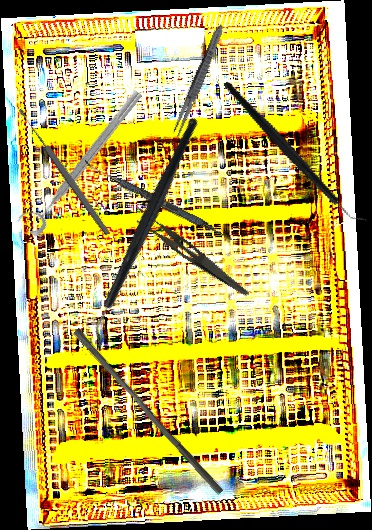Chopper: (27, 115, 266, 355), (223, 52, 368, 253)
Dressing Forceps: (125, 204, 259, 298), (169, 22, 227, 142)
Fixation Ring: (14, 80, 147, 239)
Pusher: (67, 327, 230, 496)
Spatula Surgical: (81, 160, 235, 242)
Surgical Spoon: (16, 105, 112, 238)
